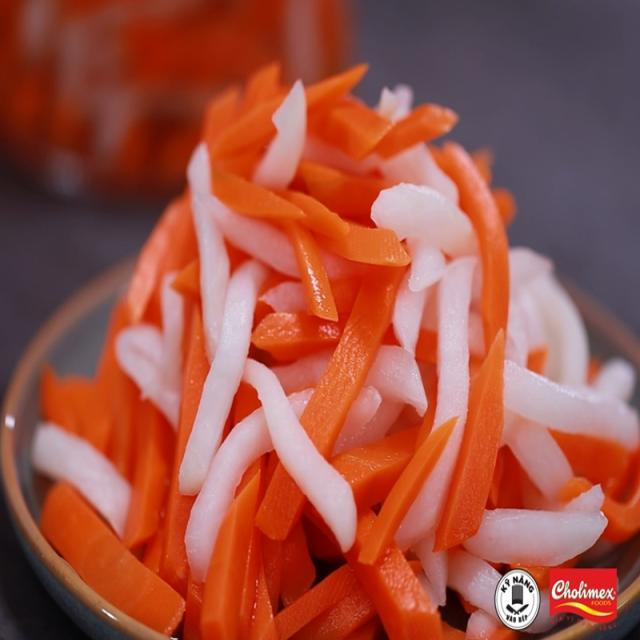do chua: (32, 63, 639, 639)
